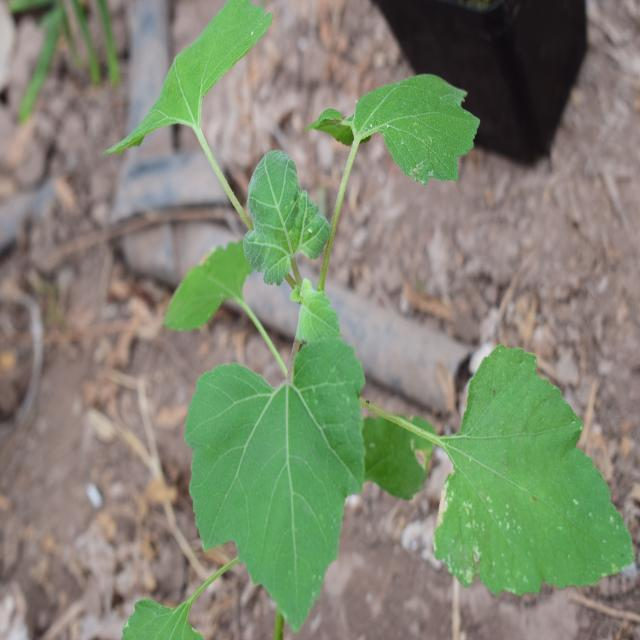cocklebur: (112, 8, 588, 601)
